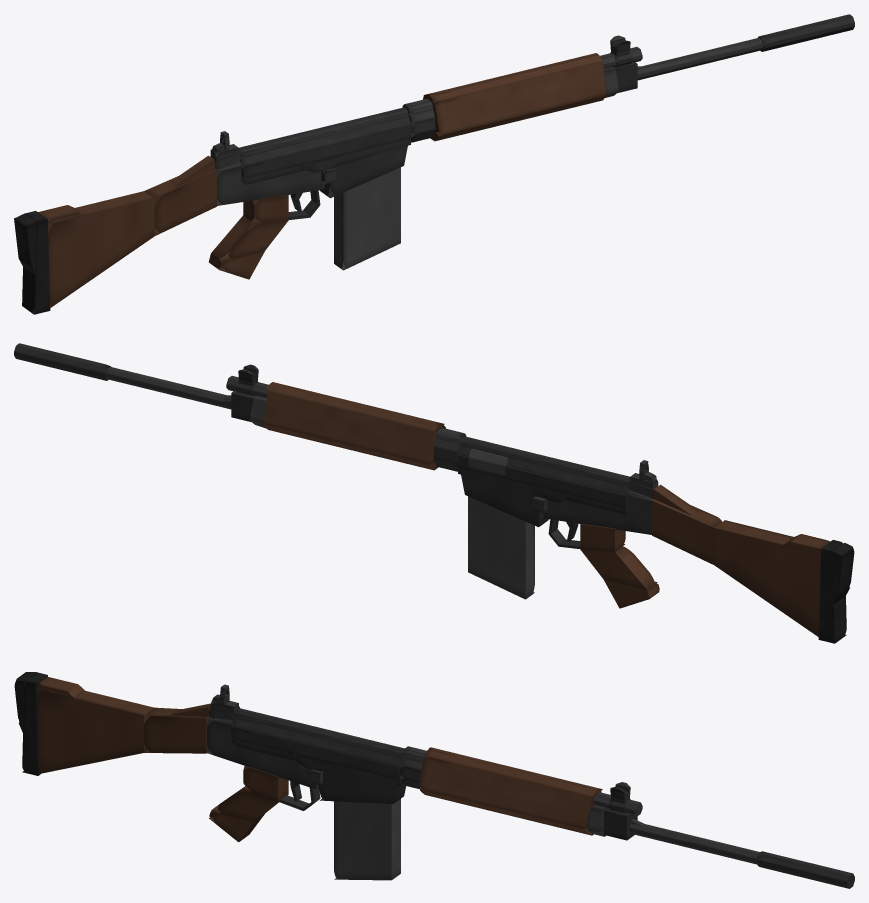
The model's file is fal.obj.
3 views of the same model, one above another, from view 1: azimuth 30°, elevation 25°; view 2: azimuth 150°, elevation 25°; view 3: azimuth 330°, elevation 25° (orthographic).
Visible parts, largest first — view 1: gunModel17, gunModel32, ammoModel0, gunModel16, gunModel1, gunModel10, gunModel4, gunModel20, gunModel33, gunModel14, gunModel5, gunModel7 (+10 smaller); view 2: gunModel17, gunModel32, ammoModel0, gunModel16, gunModel4, gunModel1, gunModel20, gunModel33, gunModel10, gunModel14, gunModel5, gunModel7 (+9 smaller); view 3: gunModel17, gunModel32, ammoModel0, gunModel16, gunModel4, gunModel1, gunModel10, gunModel33, gunModel5, gunModel20, gunModel14, gunModel7 (+11 smaller).
Boxes of the visible parts, x1,y1,x2,y2 form: gunModel17: (35,191,154,307); gunModel32: (423,62,605,135); ammoModel0: (334,167,400,270); gunModel16: (144,170,216,235); gunModel1: (216,157,324,205); gunModel10: (241,125,411,178); gunModel4: (319,139,408,198); gunModel20: (22,211,50,314); gunModel33: (424,53,602,102); gunModel14: (211,215,287,260); gunModel5: (240,117,410,166); gunModel7: (239,107,407,153); gunModel17: (714,520,820,636); gunModel32: (263,391,445,464); ammoModel0: (468,496,534,599); gunModel16: (652,499,721,564); gunModel4: (460,468,548,527); gunModel1: (544,495,651,534); gunModel20: (818,540,846,643); gunModel33: (266,382,444,431); gunModel10: (457,454,626,507); gunModel14: (581,546,657,589); gunModel5: (458,446,628,495); gunModel7: (461,436,629,482); gunModel17: (37,685,153,773); gunModel32: (419,756,601,829); ammoModel0: (334,799,400,880); gunModel16: (144,707,208,753); gunModel4: (318,764,406,803); gunModel1: (207,717,318,789); gunModel10: (231,727,400,779); gunModel33: (424,747,602,796); gunModel5: (232,717,401,766); gunModel20: (22,672,47,775); gunModel14: (211,786,278,820); gunModel7: (234,708,404,753).
Bounding box in the file's own units: 36 × 6.7 × 1.6.
